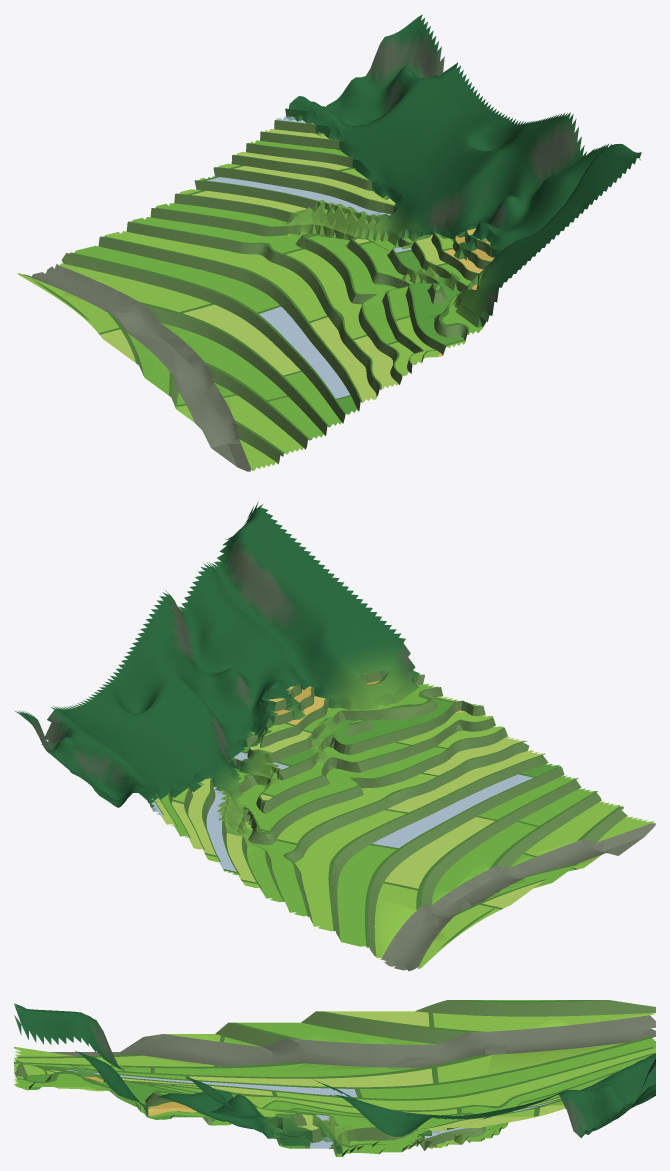
File: payo_land_xm1_y1_lod1.glb
3 views of the same model, one above another, from view 1: azimuth 30°, elevation 25°; view 2: azimuth 150°, elevation 25°; view 3: azimuth 270°, elevation 25° (orthographic). The views are drawn at different scales.
Visible parts, largest first — view 1: payo_land_xm1_y1; view 2: payo_land_xm1_y1; view 3: payo_land_xm1_y1.
Part boxes in pixels (x1,y1,x2,y2): payo_land_xm1_y1: (18,14,641,471); payo_land_xm1_y1: (15,501,655,971); payo_land_xm1_y1: (14,1000,655,1156).
Bounding box in the file's own units: 258 × 139 × 258.
